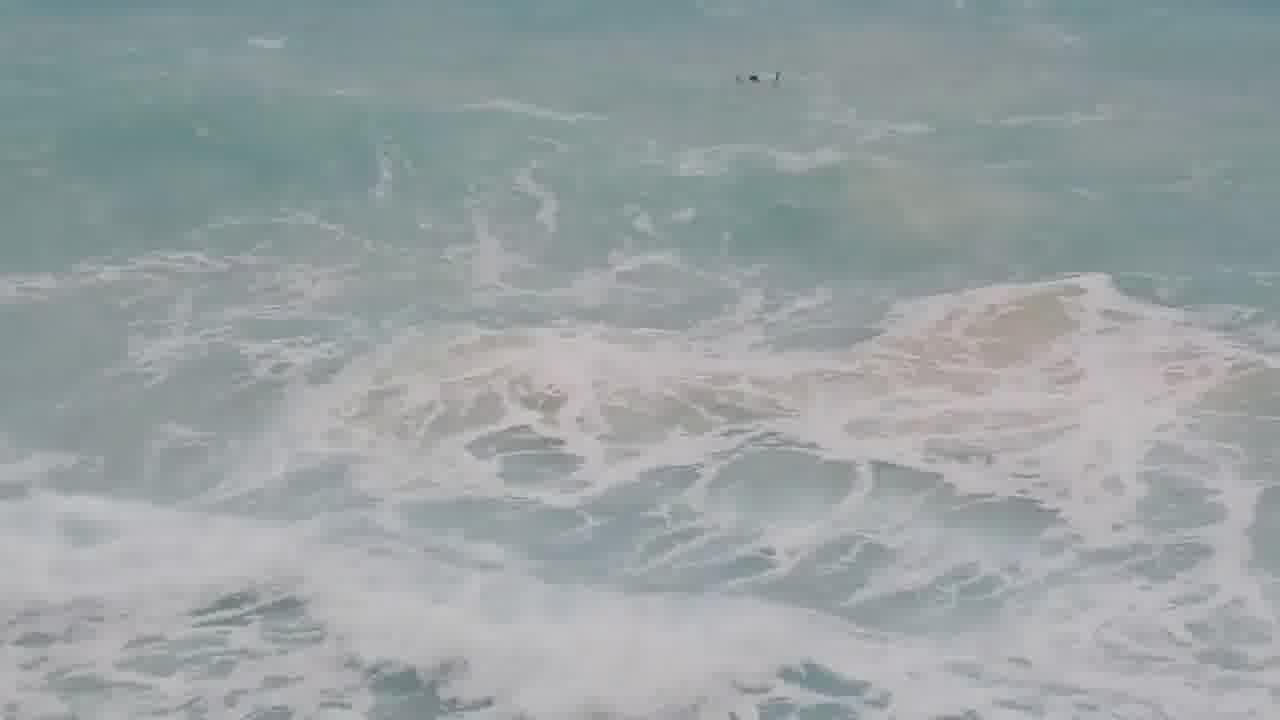human: (733, 50, 796, 104)
